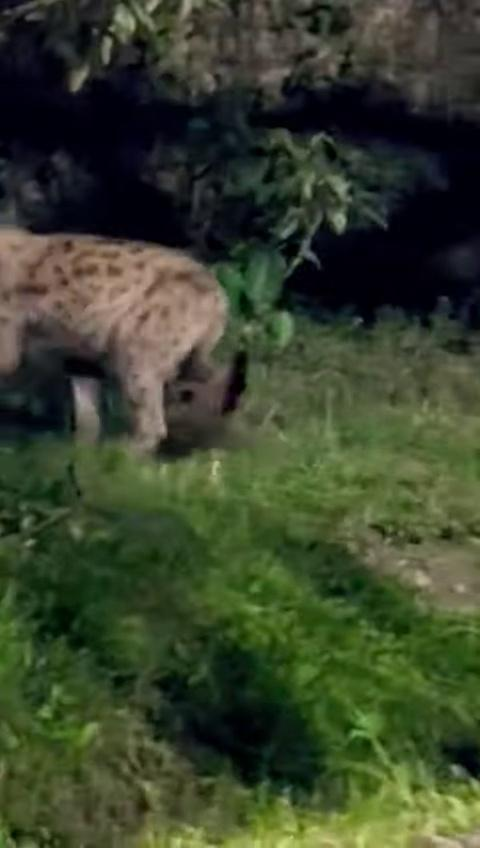hyenas: (0, 232, 270, 475)
